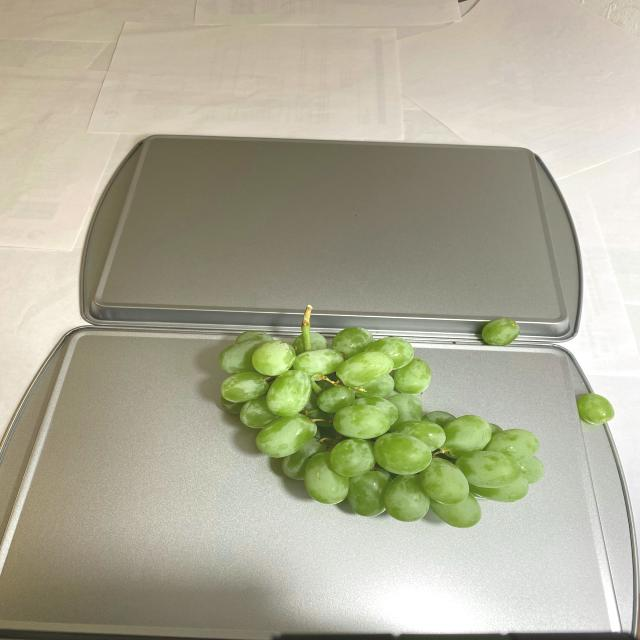grapes: (179, 313, 544, 531), (572, 392, 616, 430)
